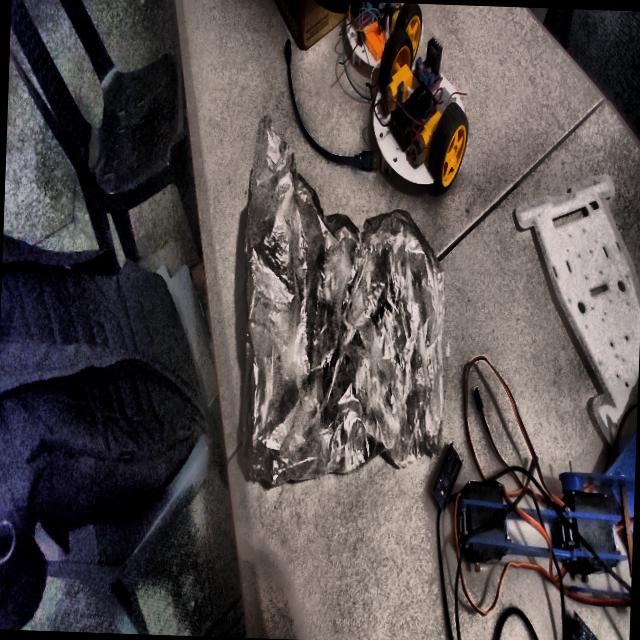plastic bag: (241, 117, 444, 484)
